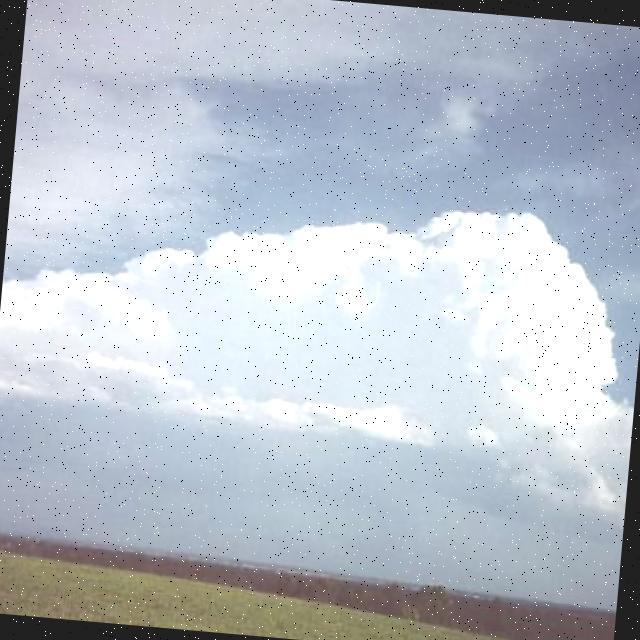Cs: (1, 59, 640, 508)
